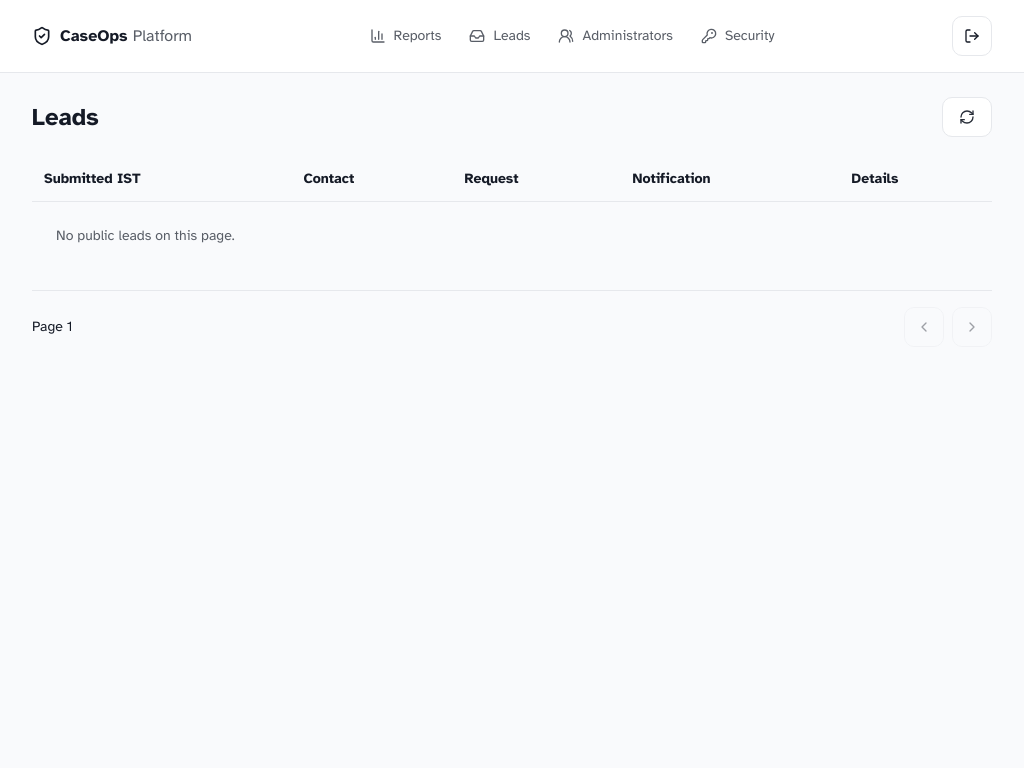
Test: platform leads renderer through the real console client › shows an honest empty result and nullable fields without inventing contact or notification data
Expected: the text "No public leads on this page." is shown, x1=32 y1=202 x2=992 y2=270
Expected: the button named "Next page" is disabled, x1=952 y1=307 x2=992 y2=347
Click the button named "Reload leads".
click(967, 117)  # box x1=942 y1=97 x2=992 y2=137
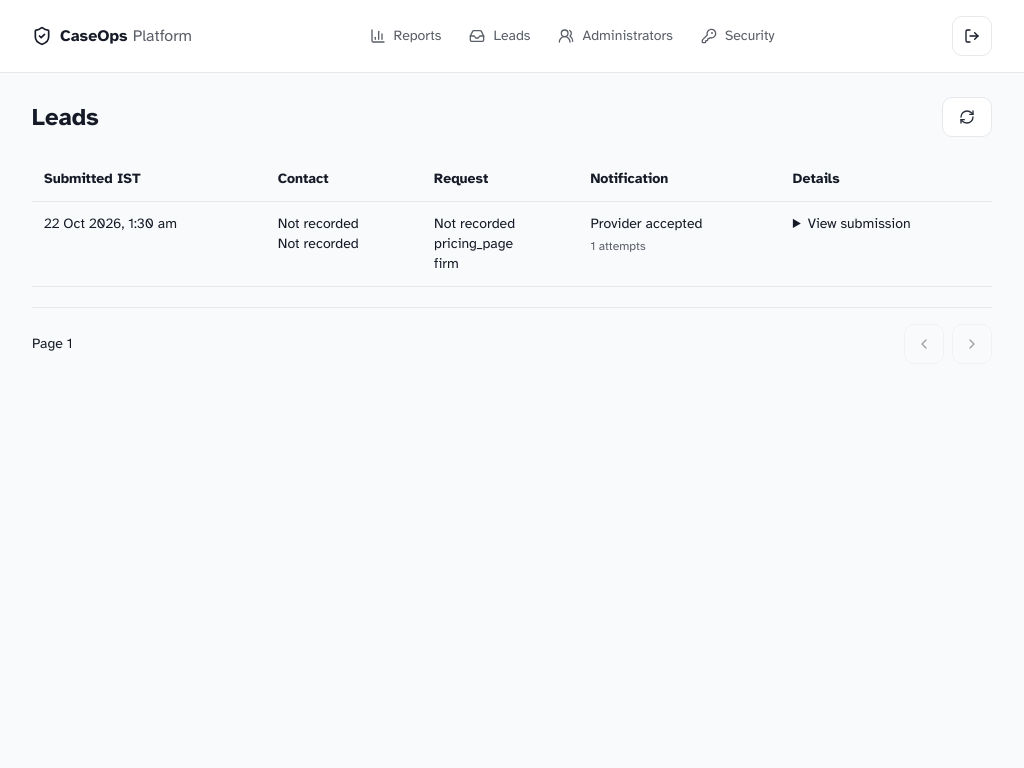
Click the heading "View submission".
click(859, 224)  # box x1=808 y1=215 x2=911 y2=232
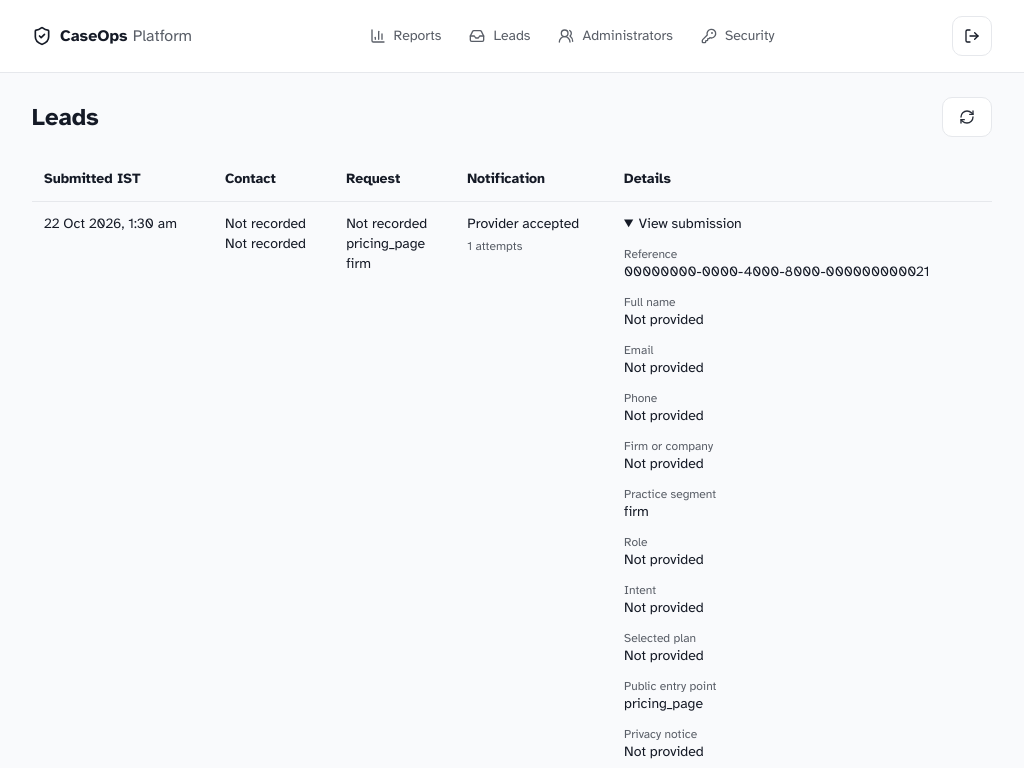
Expected: the text "No public leads on this page." is not shown
Now the text "Not provided" is shown 9 times
